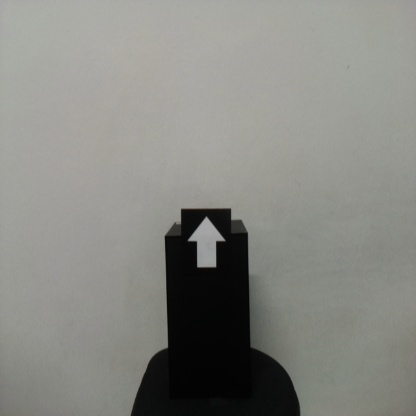id_1: (181, 210, 231, 276)
